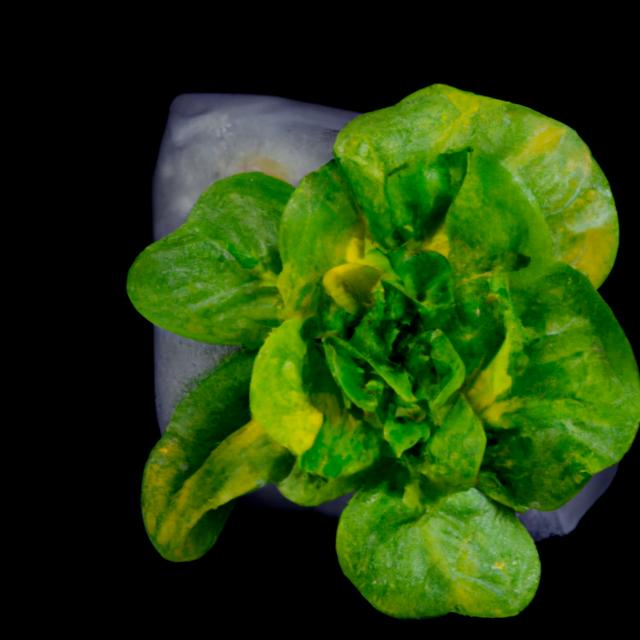-N: (63, 31, 640, 640)
